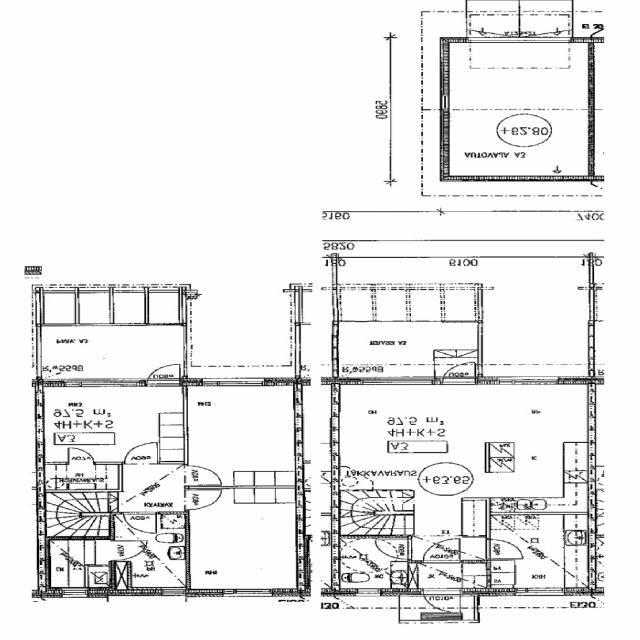door: (424, 588, 461, 618), (424, 539, 460, 564), (444, 358, 476, 385), (148, 359, 180, 385), (376, 540, 412, 560), (186, 490, 222, 510), (126, 443, 158, 465), (486, 540, 522, 559), (186, 466, 222, 485), (125, 512, 156, 534), (110, 542, 146, 560), (69, 448, 93, 465)
